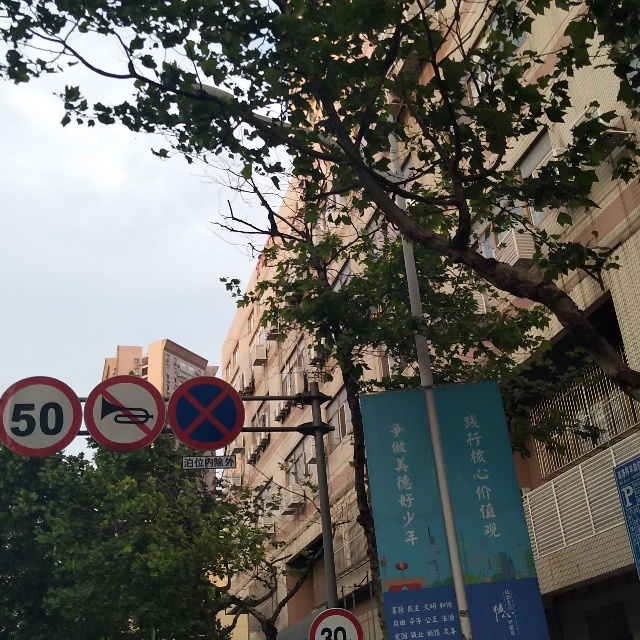nohonk: (85, 375, 165, 452)
stop: (168, 377, 245, 451)
